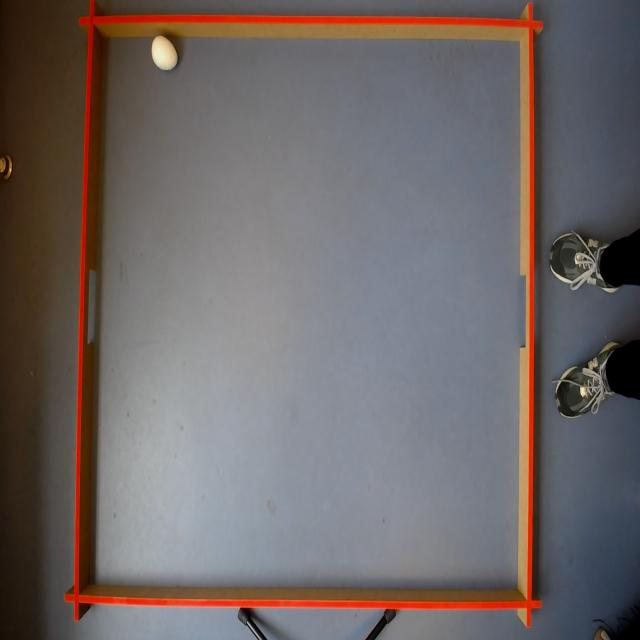egg: (150, 32, 180, 74)
